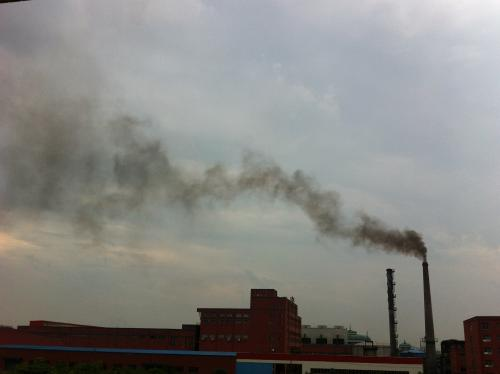smoke: (241, 158, 428, 261)
